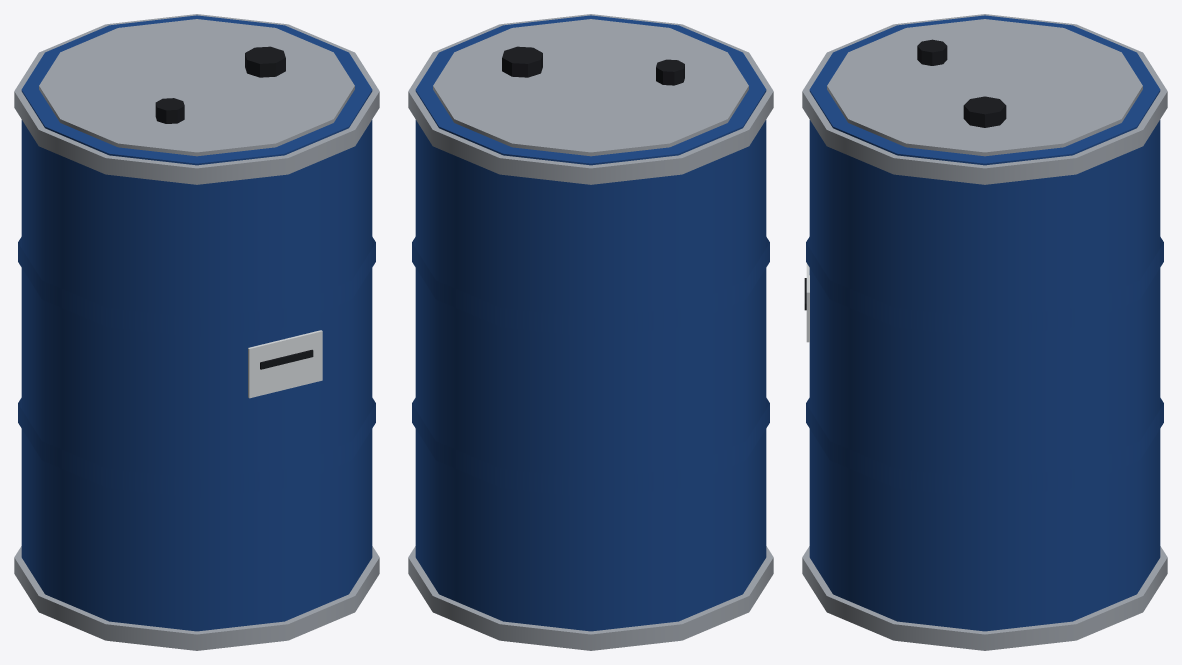
Rendered from barrel_steel_drum_blue.glb.
3 views of the same model, side by side, from view 1: azimuth 30°, elevation 25°; view 2: azimuth 150°, elevation 25°; view 3: azimuth 270°, elevation 25° (orthographic).
Parts seen in each view (by area): view 1: barrel_steel_drum_blue; view 2: barrel_steel_drum_blue; view 3: barrel_steel_drum_blue.
Part boxes in pixels (x1,y1,x2,y2): barrel_steel_drum_blue: (14,14,379,650); barrel_steel_drum_blue: (408,14,773,650); barrel_steel_drum_blue: (802,14,1167,650).
Size of the model in its own units: 0.604 by 0.918 by 0.604.
